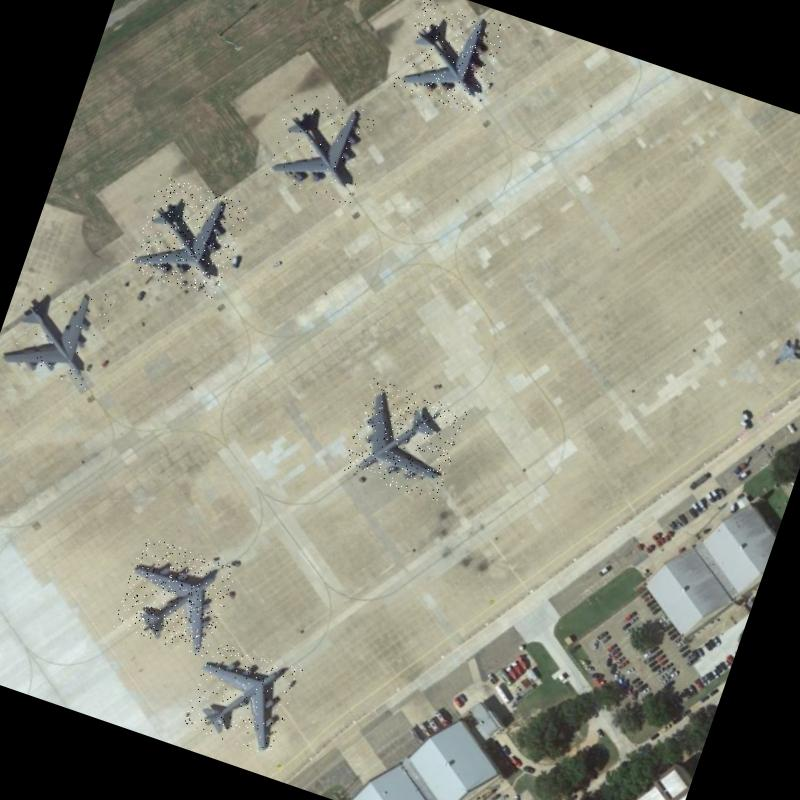A8: (341, 378, 468, 503), (112, 535, 238, 659), (127, 174, 250, 301), (0, 266, 118, 391), (262, 85, 380, 206), (182, 639, 303, 757), (392, 0, 511, 117)
